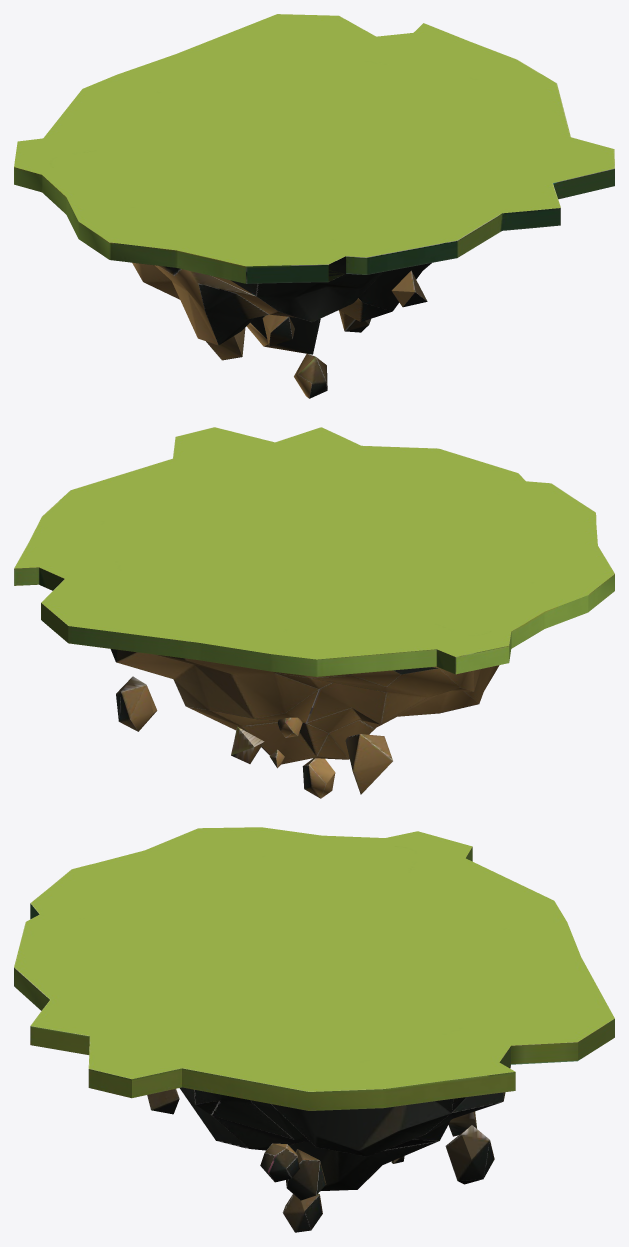
The model's file is island2.glb.
The picture shows the model from 3 angles, top to bottom: view 1: azimuth 30°, elevation 25°; view 2: azimuth 150°, elevation 25°; view 3: azimuth 270°, elevation 25°; orthographic projection. The views are drawn at different scales.
Visible parts, largest first — view 1: Mesh_0; view 2: Mesh_0; view 3: Mesh_0.
Boxes of the visible parts, x1,y1,x2,y2 form: Mesh_0: (14,14,614,398); Mesh_0: (14,427,614,798); Mesh_0: (14,827,614,1232).
Bounding box in the file's own units: 15.83 × 7.58 × 15.18.
Materials: 1 (1 with a texture image).
